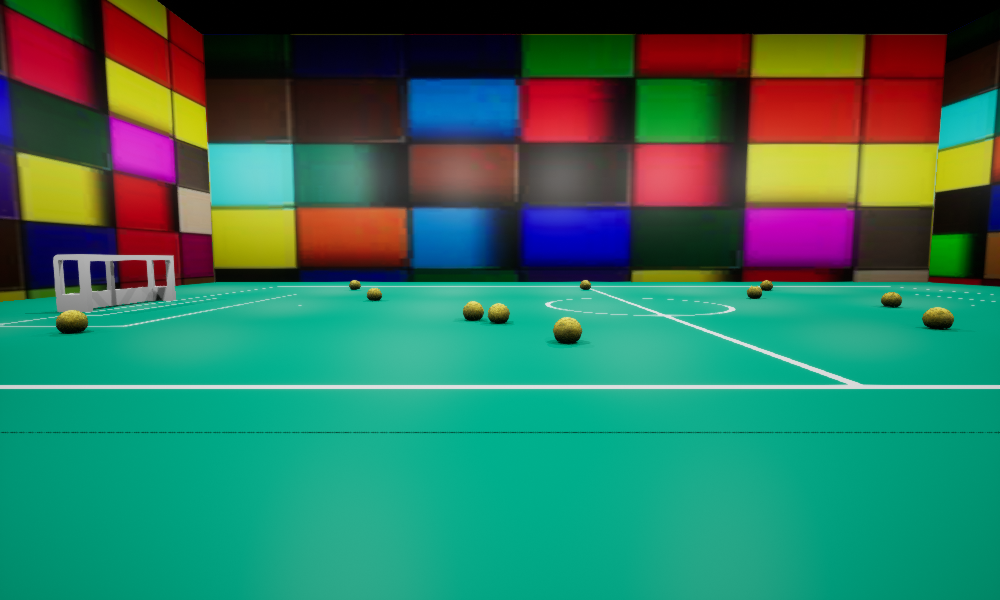b: (56, 310, 87, 333), (553, 317, 581, 342), (922, 307, 953, 328), (488, 303, 509, 322), (463, 301, 483, 320), (881, 292, 901, 306), (367, 288, 381, 300), (747, 286, 761, 298), (760, 280, 772, 290), (349, 280, 360, 289), (580, 280, 590, 289)
g: (53, 254, 175, 311)
